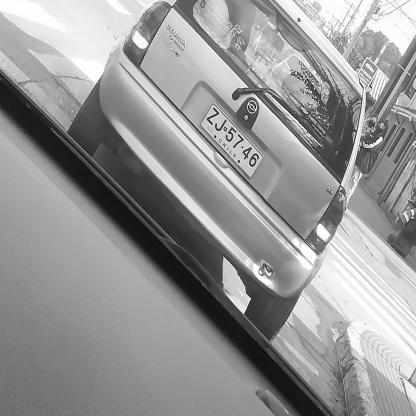Patente: (198, 101, 266, 184)
